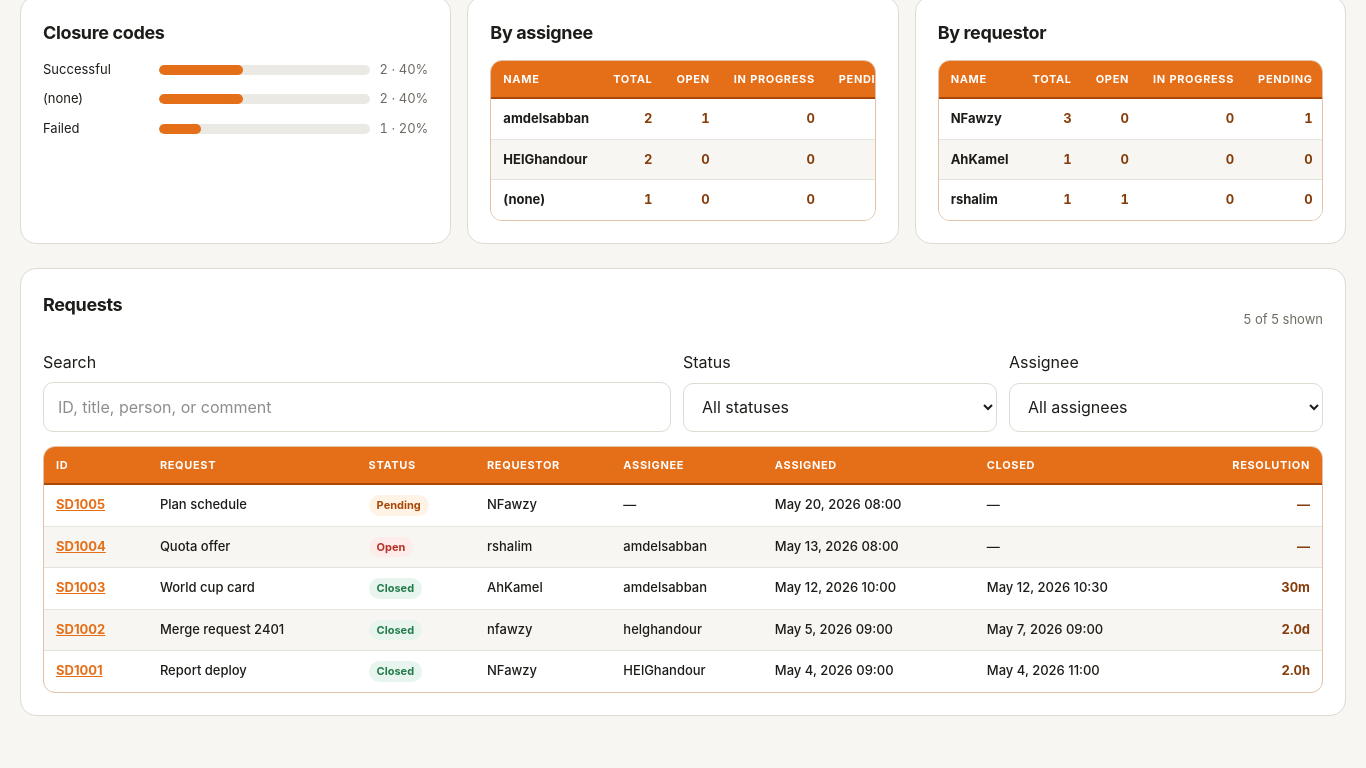
Test case: OpsRequestsPage › searches and filters by assignee
The image size is (1366, 768).
(page scrolled)
Type "quota" into the search field labelled "Search" at [357, 407], box [43,382,671,432]
(page scrolled)
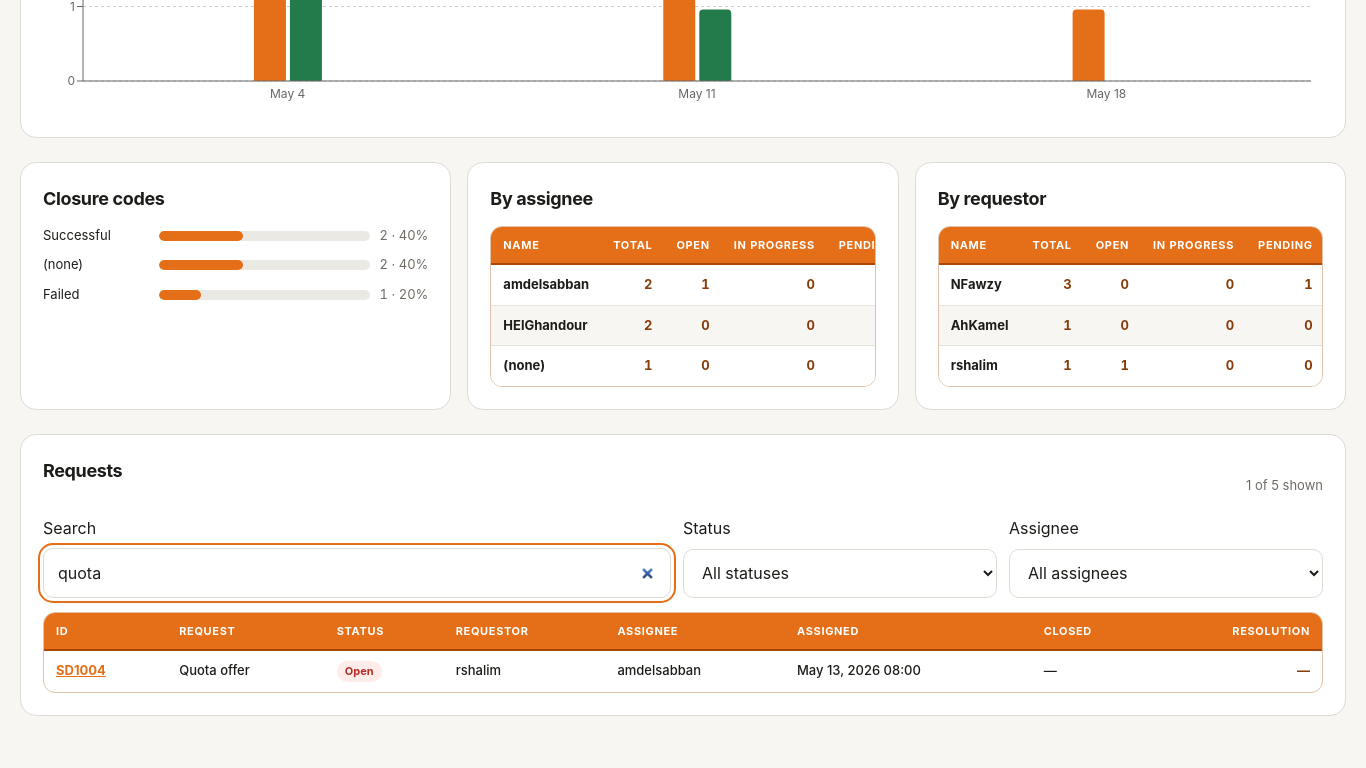
Clear the search field labelled "Search" at [357, 573], box [43,548,671,598]
(page scrolled)
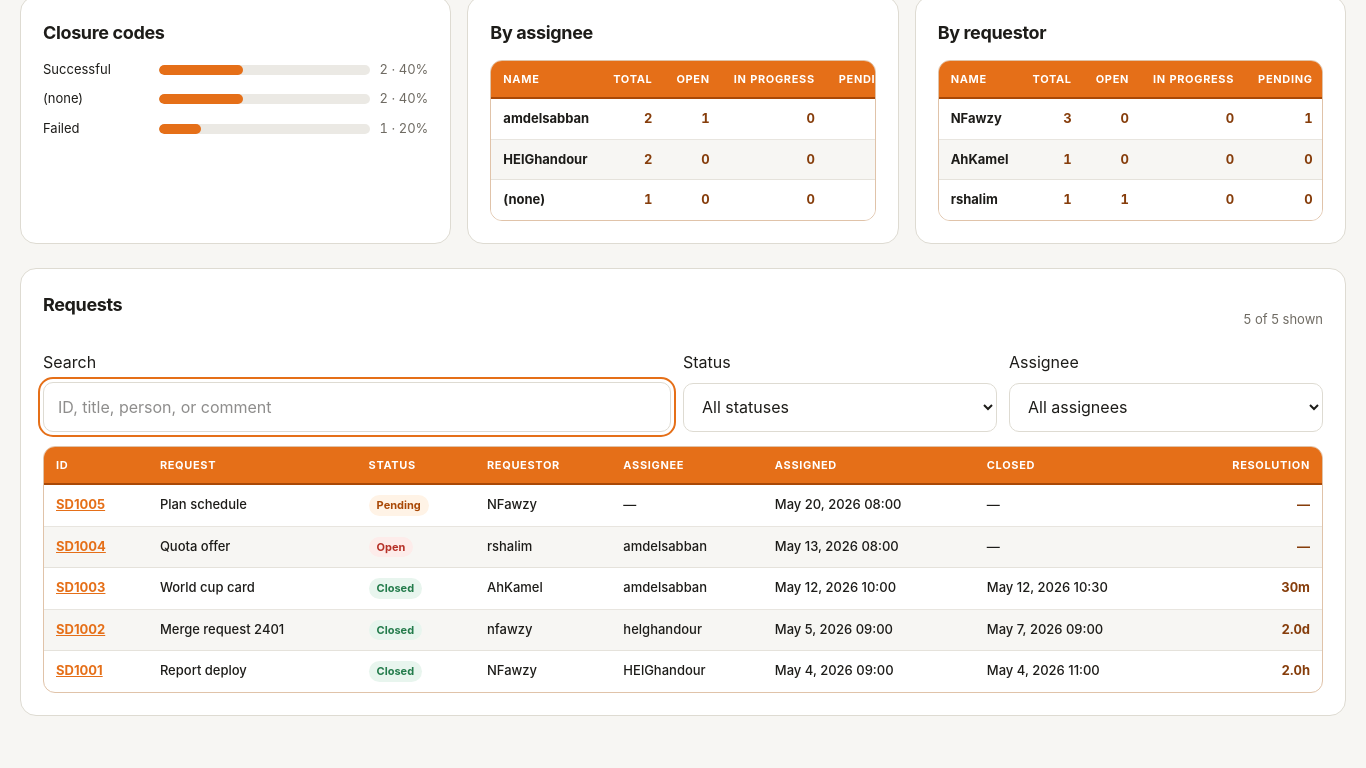
Select "HElGhandour" in the dropdown labelled "Assignee" at [1166, 407], box [1009,383,1323,432]
(page scrolled)
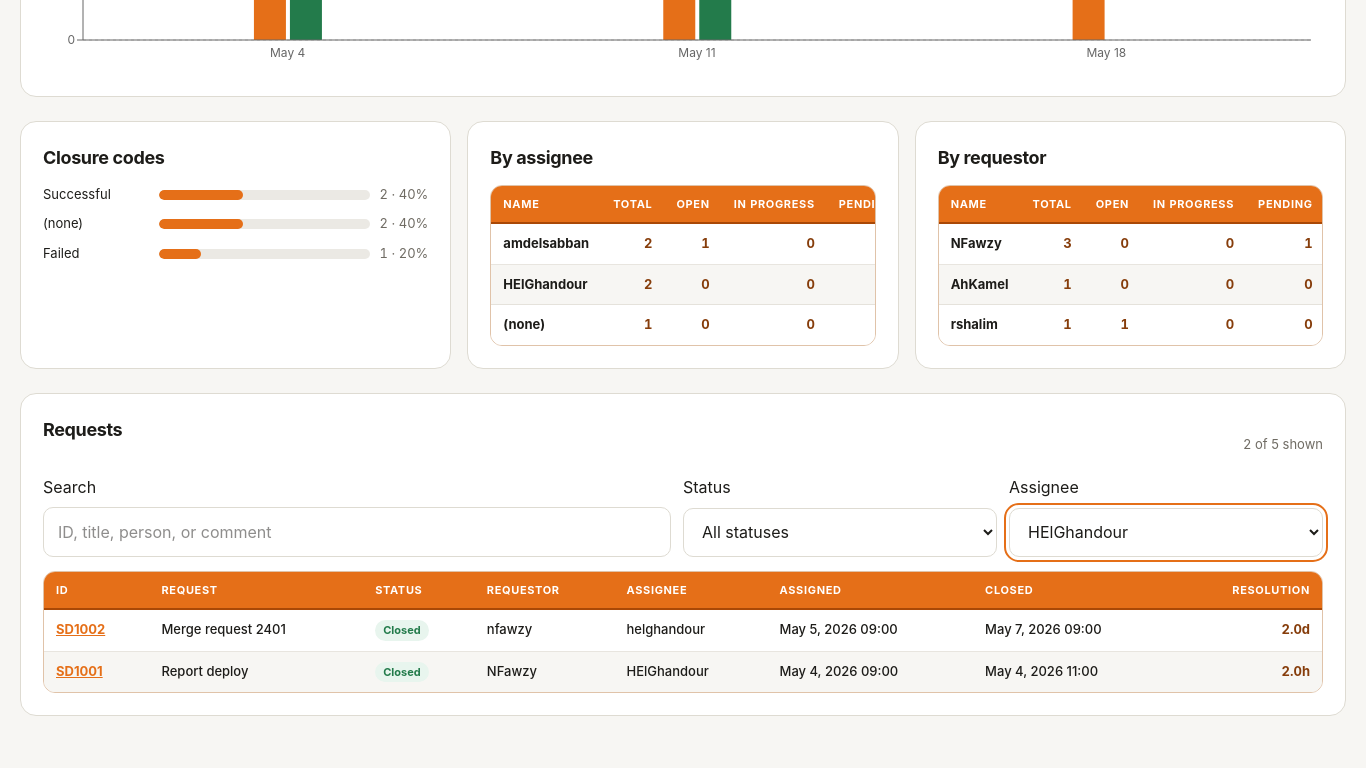
Type "nothing matches" into the search field labelled "Search" at [357, 532], box [43,507,671,557]
(page scrolled)
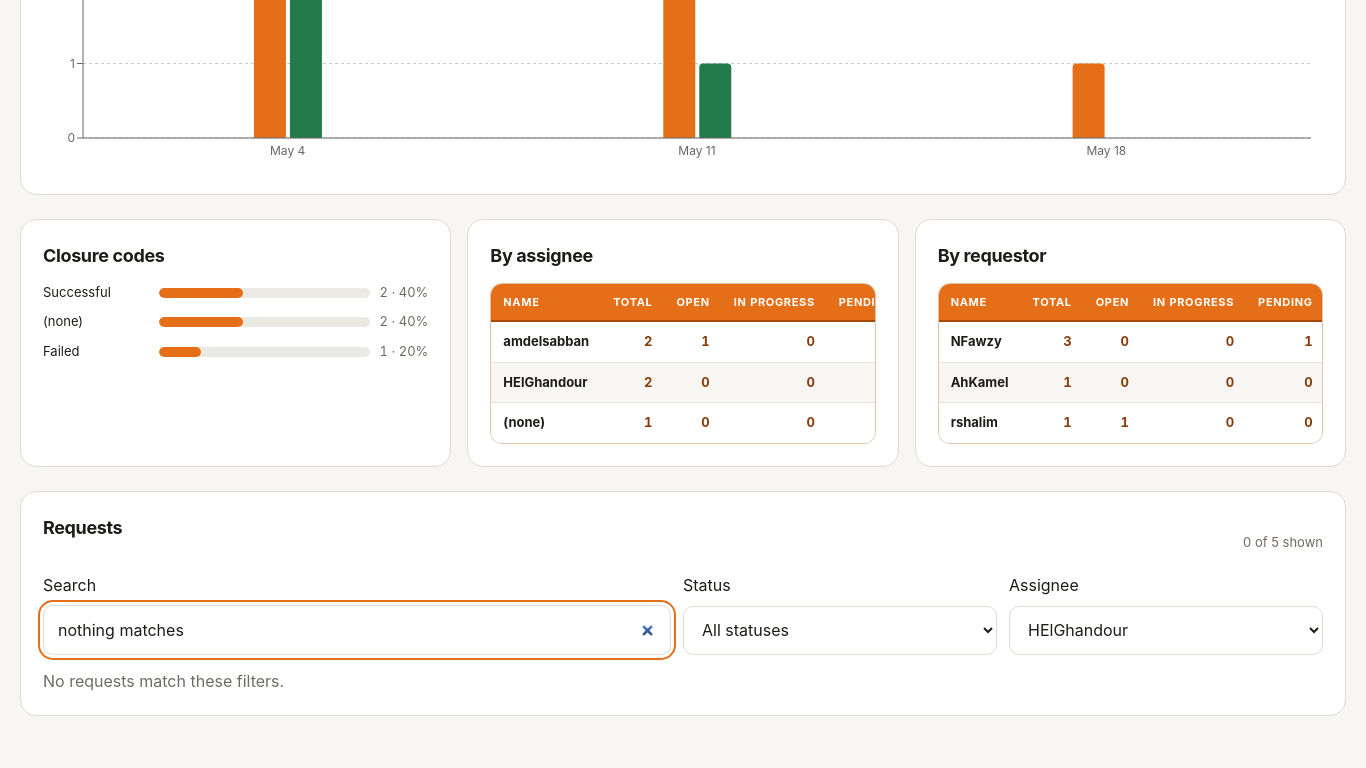
Check: the text "No requests match these filters." is shown, box [43,671,284,691]
